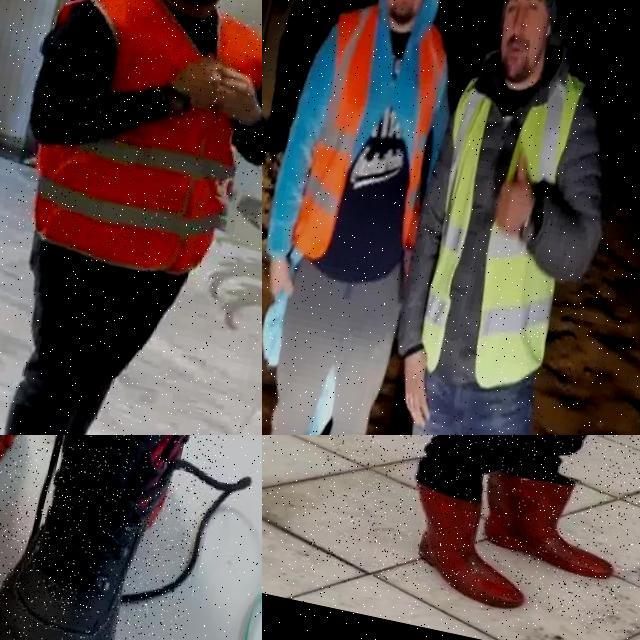boots: (0, 435, 242, 640), (391, 480, 542, 612), (470, 467, 628, 581), (0, 435, 56, 640)
vest: (6, 0, 262, 293), (398, 51, 604, 402), (287, 4, 453, 278)
